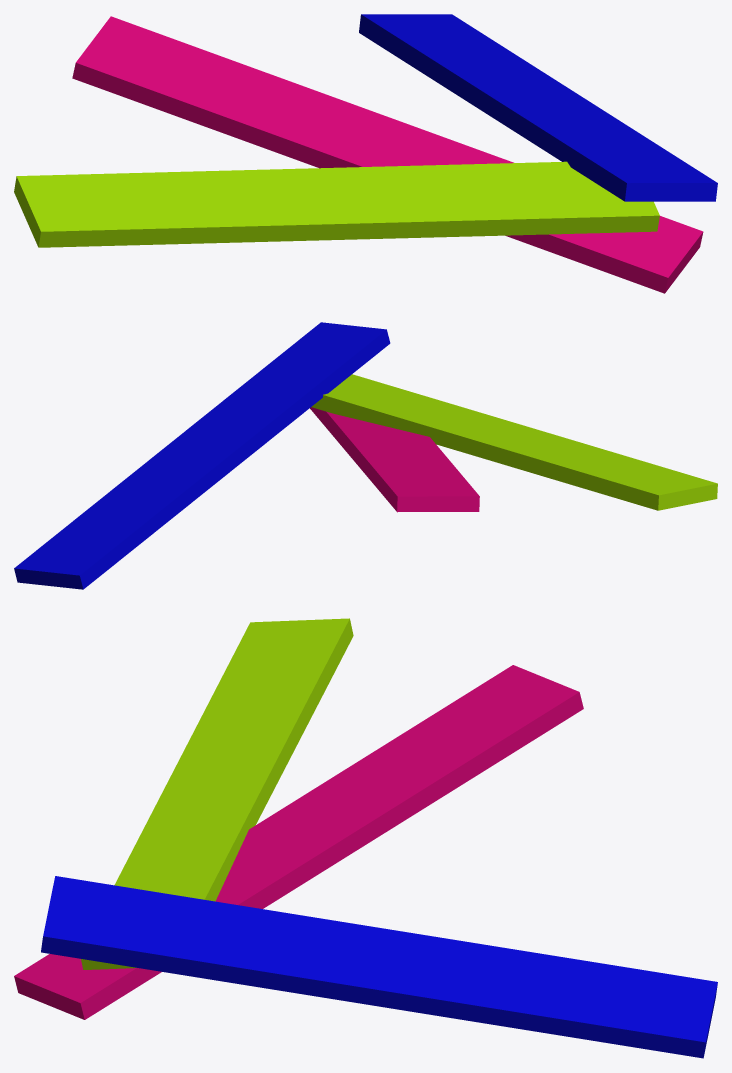
The model's file is Tablas_OBJETO.fbx.
The picture shows the model from 3 angles, top to bottom: view 1: azimuth 30°, elevation 25°; view 2: azimuth 150°, elevation 25°; view 3: azimuth 270°, elevation 25°; orthographic projection. The views are drawn at different scales.
Visible parts, largest first — view 1: Tablas_OBJETO; view 2: Tablas_OBJETO; view 3: Tablas_OBJETO.
Part boxes in pixels (x1,y1,x2,y2): Tablas_OBJETO: (14,14,717,293); Tablas_OBJETO: (14,322,717,589); Tablas_OBJETO: (14,618,717,1058).
Size of the model in its own units: 2.81 by 0.67 by 2.61.
